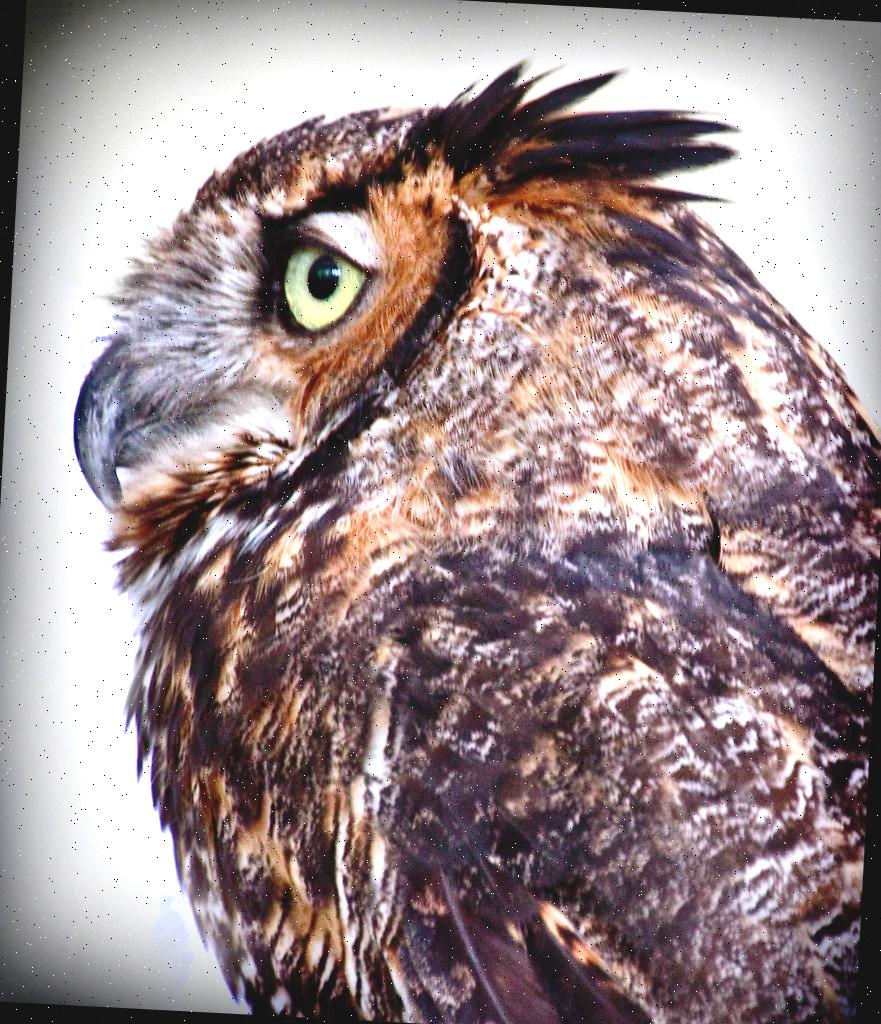Owl: (30, 15, 881, 1024)
